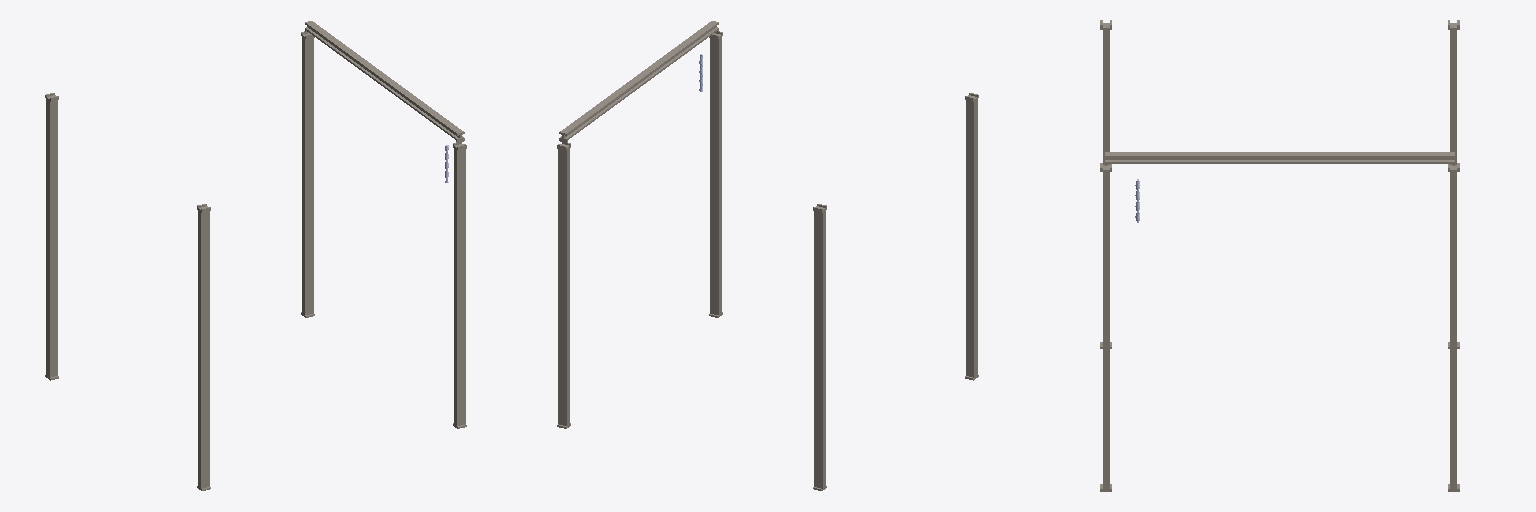
The robot description file, URDF, robot "my_robot":
<?xml version="1.0" ?>
<!-- =================================================================================== -->
<!-- |    This document was autogenerated by xacro from solidworks2ros_try22.xacro     | -->
<!-- |    EDITING THIS FILE BY HAND IS NOT RECOMMENDED                                 | -->
<!-- =================================================================================== -->
<robot name="my_robot">
  <link name="dummy"> 
  </link>
  <joint name="dummy_joint" type="fixed">
    <parent link="dummy"/>
    <child link="base_link"/>
  </joint>
  <link name="base_link">
    <inertial>
      <origin rpy="0 0 0" xyz="-1.8415 1.8923 1.93881228831229"/>
      <mass value="1189.83063679221"/>
      <inertia ixx="1522.60954712238" ixy="-1.420061750672E-22" ixz="3.73286057732453E-15" iyy="1517.59982451556" iyz="1.56754172645829E-13" izz="2.2081856636322"/>
    </inertial>
    <visual>
      <origin rpy="0 0 0" xyz="0 0 0"/>
      <geometry>
        <mesh filename="package://solidworks2ros_try22/meshes/base_link.STL"/>
      </geometry>
      <material name="">
        <color rgba="0.650980392156863 0.619607843137255 0.588235294117647 1"/>
      </material>
    </visual>
    <collision>
      <origin rpy="0 0 0" xyz="0 0 0"/>
      <geometry>
        <mesh filename="package://solidworks2ros_try22/meshes/base_link.STL"/>
      </geometry>
    </collision>
  </link>
  <link name="fixed_link1">
    <inertial>
      <origin rpy="0 0 0" xyz="-1.905 1.8923 -0.0105833333333343"/>
      <mass value="463.570377970991"/>
      <inertia ixx="0.770538827320867" ixy="8.9619312864146E-22" ixz="1.18922393937621E-15" iyy="560.96680475803" iyz="2.43205703879587E-22" izz="561.342728013408"/>
    </inertial>
    <visual>
      <origin rpy="0 0 0" xyz="0 0 0"/>
      <geometry>
        <mesh filename="package://solidworks2ros_try22/meshes/fixed_link1.STL"/>
      </geometry>
      <material name="">
        <color rgba="0.650980392156863 0.619607843137255 0.588235294117647 1"/>
      </material>
    </visual>
    <collision>
      <origin rpy="0 0 0" xyz="0 0 0"/>
      <geometry>
        <mesh filename="package://solidworks2ros_try22/meshes/fixed_link1.STL"/>
      </geometry>
    </collision>
  </link>
  <joint name="fixed_joint1" type="fixed">
    <origin rpy="0 0 0" xyz="0.0635 0 3.9122"/>
    <parent link="base_link"/>
    <child link="fixed_link1"/>
    <axis xyz="0 0 0"/>
  </joint>
  <link name="link_1">
    <inertial>
      <origin rpy="0 0 0" xyz="-0.0508000000000002 1.8923 0.0758631299734733"/>
      <mass value="19.418448055007"/>
      <inertia ixx="237.587906133625" ixy="5.18188025274158E-22" ixz="1.63224364285503E-17" iyy="0.380996606082199" iyz="6.20919831193846E-14" izz="237.478681964248"/>
    </inertial>
    <visual>
      <origin rpy="0 0 0" xyz="0 0 0"/>
      <geometry>
        <mesh filename="package://solidworks2ros_try22/meshes/link_1.STL"/>
      </geometry>
      <material name="">
        <color rgba="0.650980392156863 0.619607843137255 0.588235294117647 1"/>
      </material>
    </visual>
    <collision>
      <origin rpy="0 0 0" xyz="0 0 0"/>
      <geometry>
        <mesh filename="package://solidworks2ros_try22/meshes/link_1.STL"/>
      </geometry>
    </collision>
  </link>
  <joint name="joint_1" type="prismatic">
    <origin rpy="0 0 0" xyz="0 0 0"/>
    <parent link="fixed_link1"/>
    <child link="link_1"/>
    <axis xyz="-1 0 0"/>
    <limit effort="100" lower="0" upper="3.5" velocity="0.2"/>
  </joint>
  <link name="link_2">
    <inertial>
      <origin rpy="0 0 0" xyz="0 0 0.0356340705130371"/>
      <mass value="19.9990194153574"/>
      <inertia ixx="6.11375565768231" ixy="-1.15919177324351E-22" ixz="-2.72765263759081E-15" iyy="12.7901278387754" iyz="-1.01498448941922E-22" izz="7.21589311049448"/>
    </inertial>
    <visual>
      <origin rpy="0 0 0" xyz="0 0 0"/>
      <geometry>
        <mesh filename="package://solidworks2ros_try22/meshes/link_2.STL"/>
      </geometry>
      <material name="">
        <color rgba="0.650980392156863 0.619607843137255 0.588235294117647 1"/>
      </material>
    </visual>
    <collision>
      <origin rpy="0 0 0" xyz="0 0 0"/>
      <geometry>
        <mesh filename="package://solidworks2ros_try22/meshes/link_2.STL"/>
      </geometry>
    </collision>
  </link>
  <joint name="joint_2" type="prismatic">
    <origin rpy="0 0 0" xyz="-0.0508 0.2286 -0.1143"/>
    <parent link="link_1"/>
    <child link="link_2"/>
    <axis xyz="0 1 0"/>
    <limit effort="100" lower="0" upper="3.5" velocity="0.2"/>
  </joint>
  <link name="link_3">
    <inertial>
      <origin rpy="0 0 0" xyz="-1.5265814390375E-08 -0.00223577376814383 0.00223567354805672"/>
      <mass value="9.05475783072939"/>
      <inertia ixx="0.112496283294502" ixy="-3.42930100367884E-06" ixz="-3.41309869074687E-06" iyy="0.0861436896222287" iyz="-0.00122547207769907" izz="0.0861439430786658"/>
    </inertial>
    <visual>
      <origin rpy="0 0 0" xyz="0 0 0"/>
      <geometry>
        <mesh filename="package://solidworks2ros_try22/meshes/link_3.STL"/>
      </geometry>
      <material name="">
        <color rgba="0.792156862745098 0.819607843137255 0.933333333333333 1"/>
      </material>
    </visual>
    <collision>
      <origin rpy="0 0 0" xyz="0 0 0"/>
      <geometry>
        <mesh filename="package://solidworks2ros_try22/meshes/link_3.STL"/>
      </geometry>
    </collision>
  </link>
  <joint name="joint_3" type="revolute">
    <origin rpy="0 0 0" xyz="0 0 -0.0762"/>
    <parent link="link_2"/>
    <child link="link_3"/>
    <axis xyz="1 0 0"/>
    <limit effort="100" lower="0" upper="100" velocity="0.2"/>
  </joint>
  <!-- Define the link -->
  <link name="link_4">
    <inertial>
      <origin rpy="0 0 0" xyz="-1.50990331349021E-14 -1.79856129989275E-14 -0.254000177902264"/>
      <mass value="0.570788909720224"/>
      <inertia ixx="0.0123412356660734" ixy="8.63968603247427E-09" ixz="5.94410662360122E-18" iyy="0.0123412022009673" iyz="2.06563437257844E-18" izz="0.000129968031935081"/>
    </inertial>
    <visual>
      <origin rpy="0 0 0" xyz="0 0 0"/>
      <geometry>
        <mesh filename="package://solidworks2ros_try22/meshes/link_4.STL"/>
      </geometry>
      <material name="">
        <color rgba="0.792156862745098 0.819607843137255 0.933333333333333 1"/>
      </material>
    </visual>
    <collision>
      <origin rpy="0 0 0" xyz="0 0 0"/>
      <geometry>
        <mesh filename="package://solidworks2ros_try22/meshes/link_4.STL"/>
      </geometry>
    </collision>
  </link>
  <!-- Define the joint -->
  <joint name="joint_4" type="prismatic">
    <origin rpy="0 0 0" xyz="0 0.1143 -0.0762"/>
    <parent link="link_2"/>
    <child link="link_4"/>
    <axis xyz="0 0 -1"/>
    <limit effort="100" lower="0" upper="20" velocity="0.2"/>
  </joint>
  <!-- Define the link -->
  <link name="link_5">
    <inertial>
      <origin rpy="0 0 0" xyz="-1.50990331349021E-14 -1.79856129989275E-14 -0.254000177902264"/>
      <mass value="0.570788909720224"/>
      <inertia ixx="0.0123412356660734" ixy="8.63968603247427E-09" ixz="5.94410662360122E-18" iyy="0.0123412022009673" iyz="2.06563437257844E-18" izz="0.000129968031935081"/>
    </inertial>
    <visual>
      <origin rpy="0 0 0" xyz="0 0 0"/>
      <geometry>
        <mesh filename="package://solidworks2ros_try22/meshes/link_4.STL"/>
      </geometry>
      <material name="">
        <color rgba="0.792156862745098 0.819607843137255 0.933333333333333 1"/>
      </material>
    </visual>
    <collision>
      <origin rpy="0 0 0" xyz="0 0 0"/>
      <geometry>
        <mesh filename="package://solidworks2ros_try22/meshes/link_4.STL"/>
      </geometry>
    </collision>
  </link>
  <!-- Define the joint -->
  <joint name="joint_5" type="prismatic">
    <origin rpy="0 0 0" xyz="0 0.1143 -0.0762"/>
    <parent link="link_2"/>
    <child link="link_5"/>
    <axis xyz="0 0 -1"/>
    <limit effort="100" lower="0" upper="20" velocity="0.2"/>
  </joint>
  <!-- Define the link -->
  <link name="link_6">
    <inertial>
      <origin rpy="0 0 0" xyz="-1.50990331349021E-14 -1.79856129989275E-14 -0.254000177902264"/>
      <mass value="0.570788909720224"/>
      <inertia ixx="0.0123412356660734" ixy="8.63968603247427E-09" ixz="5.94410662360122E-18" iyy="0.0123412022009673" iyz="2.06563437257844E-18" izz="0.000129968031935081"/>
    </inertial>
    <visual>
      <origin rpy="0 0 0" xyz="0 0 0"/>
      <geometry>
        <mesh filename="package://solidworks2ros_try22/meshes/link_4.STL"/>
      </geometry>
      <material name="">
        <color rgba="0.792156862745098 0.819607843137255 0.933333333333333 1"/>
      </material>
    </visual>
    <collision>
      <origin rpy="0 0 0" xyz="0 0 0"/>
      <geometry>
        <mesh filename="package://solidworks2ros_try22/meshes/link_4.STL"/>
      </geometry>
    </collision>
  </link>
  <!-- Define the joint -->
  <joint name="joint_6" type="prismatic">
    <origin rpy="0 0 0" xyz="0 0.1143 -0.0762"/>
    <parent link="link_2"/>
    <child link="link_6"/>
    <axis xyz="0 0 -1"/>
    <limit effort="100" lower="0" upper="20" velocity="0.2"/>
  </joint>
  <!-- Define the link -->
  <link name="link_7">
    <inertial>
      <origin rpy="0 0 0" xyz="-1.50990331349021E-14 -1.79856129989275E-14 -0.254000177902264"/>
      <mass value="0.570788909720224"/>
      <inertia ixx="0.0123412356660734" ixy="8.63968603247427E-09" ixz="5.94410662360122E-18" iyy="0.0123412022009673" iyz="2.06563437257844E-18" izz="0.000129968031935081"/>
    </inertial>
    <visual>
      <origin rpy="0 0 0" xyz="0 0 0"/>
      <geometry>
        <mesh filename="package://solidworks2ros_try22/meshes/link_4.STL"/>
      </geometry>
      <material name="">
        <color rgba="0.792156862745098 0.819607843137255 0.933333333333333 1"/>
      </material>
    </visual>
    <collision>
      <origin rpy="0 0 0" xyz="0 0 0"/>
      <geometry>
        <mesh filename="package://solidworks2ros_try22/meshes/link_4.STL"/>
      </geometry>
    </collision>
  </link>
  <!-- Define the joint -->
  <joint name="joint_7" type="prismatic">
    <origin rpy="0 0 0" xyz="0 0.1143 -0.0762"/>
    <parent link="link_2"/>
    <child link="link_7"/>
    <axis xyz="0 0 -1"/>
    <limit effort="100" lower="0" upper="20" velocity="0.2"/>
  </joint>
  <!-- Define the link -->
  <link name="link_8">
    <inertial>
      <origin rpy="0 0 0" xyz="-1.50990331349021E-14 -1.79856129989275E-14 -0.254000177902264"/>
      <mass value="0.570788909720224"/>
      <inertia ixx="0.0123412356660734" ixy="8.63968603247427E-09" ixz="5.94410662360122E-18" iyy="0.0123412022009673" iyz="2.06563437257844E-18" izz="0.000129968031935081"/>
    </inertial>
    <visual>
      <origin rpy="0 0 0" xyz="0 0 0"/>
      <geometry>
        <mesh filename="package://solidworks2ros_try22/meshes/link_4.STL"/>
      </geometry>
      <material name="">
        <color rgba="0.792156862745098 0.819607843137255 0.933333333333333 1"/>
      </material>
    </visual>
    <collision>
      <origin rpy="0 0 0" xyz="0 0 0"/>
      <geometry>
        <mesh filename="package://solidworks2ros_try22/meshes/link_4.STL"/>
      </geometry>
    </collision>
  </link>
  <!-- Define the joint -->
  <joint name="joint_8" type="prismatic">
    <origin rpy="0 0 0" xyz="0 0.1143 -0.0762"/>
    <parent link="link_2"/>
    <child link="link_8"/>
    <axis xyz="0 0 -1"/>
    <limit effort="100" lower="0" upper="20" velocity="0.2"/>
  </joint>
  <!-- Define the link -->
  <link name="link_9">
    <inertial>
      <origin rpy="0 0 0" xyz="-1.50990331349021E-14 -1.79856129989275E-14 -0.254000177902264"/>
      <mass value="0.570788909720224"/>
      <inertia ixx="0.0123412356660734" ixy="8.63968603247427E-09" ixz="5.94410662360122E-18" iyy="0.0123412022009673" iyz="2.06563437257844E-18" izz="0.000129968031935081"/>
    </inertial>
    <visual>
      <origin rpy="0 0 0" xyz="0 0 0"/>
      <geometry>
        <mesh filename="package://solidworks2ros_try22/meshes/link_4.STL"/>
      </geometry>
      <material name="">
        <color rgba="0.792156862745098 0.819607843137255 0.933333333333333 1"/>
      </material>
    </visual>
    <collision>
      <origin rpy="0 0 0" xyz="0 0 0"/>
      <geometry>
        <mesh filename="package://solidworks2ros_try22/meshes/link_4.STL"/>
      </geometry>
    </collision>
  </link>
  <!-- Define the joint -->
  <joint name="joint_9" type="prismatic">
    <origin rpy="0 0 0" xyz="0 0.1143 -0.0762"/>
    <parent link="link_2"/>
    <child link="link_9"/>
    <axis xyz="0 0 -1"/>
    <limit effort="100" lower="0" upper="20" velocity="0.2"/>
  </joint>
  <!-- Define the link -->
  <link name="link_10">
    <inertial>
      <origin rpy="0 0 0" xyz="-1.50990331349021E-14 -1.79856129989275E-14 -0.254000177902264"/>
      <mass value="0.570788909720224"/>
      <inertia ixx="0.0123412356660734" ixy="8.63968603247427E-09" ixz="5.94410662360122E-18" iyy="0.0123412022009673" iyz="2.06563437257844E-18" izz="0.000129968031935081"/>
    </inertial>
    <visual>
      <origin rpy="0 0 0" xyz="0 0 0"/>
      <geometry>
        <mesh filename="package://solidworks2ros_try22/meshes/link_4.STL"/>
      </geometry>
      <material name="">
        <color rgba="0.792156862745098 0.819607843137255 0.933333333333333 1"/>
      </material>
    </visual>
    <collision>
      <origin rpy="0 0 0" xyz="0 0 0"/>
      <geometry>
        <mesh filename="package://solidworks2ros_try22/meshes/link_4.STL"/>
      </geometry>
    </collision>
  </link>
  <!-- Define the joint -->
  <joint name="joint_10" type="prismatic">
    <origin rpy="0 0 0" xyz="0 0.1143 -0.0762"/>
    <parent link="link_2"/>
    <child link="link_10"/>
    <axis xyz="0 0 -1"/>
    <limit effort="100" lower="0" upper="20" velocity="0.2"/>
  </joint>
  <!-- Define the link -->
  <link name="link_11">
    <inertial>
      <origin rpy="0 0 0" xyz="-1.50990331349021E-14 -1.79856129989275E-14 -0.254000177902264"/>
      <mass value="0.570788909720224"/>
      <inertia ixx="0.0123412356660734" ixy="8.63968603247427E-09" ixz="5.94410662360122E-18" iyy="0.0123412022009673" iyz="2.06563437257844E-18" izz="0.000129968031935081"/>
    </inertial>
    <visual>
      <origin rpy="0 0 0" xyz="0 0 0"/>
      <geometry>
        <mesh filename="package://solidworks2ros_try22/meshes/link_4.STL"/>
      </geometry>
      <material name="">
        <color rgba="0.792156862745098 0.819607843137255 0.933333333333333 1"/>
      </material>
    </visual>
    <collision>
      <origin rpy="0 0 0" xyz="0 0 0"/>
      <geometry>
        <mesh filename="package://solidworks2ros_try22/meshes/link_4.STL"/>
      </geometry>
    </collision>
  </link>
  <!-- Define the joint -->
  <joint name="joint_11" type="prismatic">
    <origin rpy="0 0 0" xyz="0 0.1143 -0.0762"/>
    <parent link="link_2"/>
    <child link="link_11"/>
    <axis xyz="0 0 -1"/>
    <limit effort="100" lower="0" upper="20" velocity="0.2"/>
  </joint>
  <transmission name="trans_1">
    <type>transmission_interface/SimpleTransmission</type>
    <joint name="joint_1">
      <hardwareInterface>hardware_interface/PositionJointInterface</hardwareInterface>
    </joint>
    <actuator name="motor_1">
      <hardwareInterface>hardware_interface/PositionJointInterface</hardwareInterface>
      <mechanicalReduction>1</mechanicalReduction>
    </actuator>
  </transmission>
  <transmission name="trans_2">
    <type>transmission_interface/SimpleTransmission</type>
    <joint name="joint_2">
      <hardwareInterface>hardware_interface/PositionJointInterface</hardwareInterface>
    </joint>
    <actuator name="motor_2">
      <hardwareInterface>hardware_interface/PositionJointInterface</hardwareInterface>
      <mechanicalReduction>1</mechanicalReduction>
    </actuator>
  </transmission>
  <transmission name="trans_3">
    <type>transmission_interface/SimpleTransmission</type>
    <joint name="joint_3">
      <hardwareInterface>hardware_interface/PositionJointInterface</hardwareInterface>
    </joint>
    <actuator name="motor_3">
      <hardwareInterface>hardware_interface/PositionJointInterface</hardwareInterface>
      <mechanicalReduction>1</mechanicalReduction>
    </actuator>
  </transmission>
  <transmission name="trans_4">
    <type>transmission_interface/SimpleTransmission</type>
    <joint name="joint_4">
      <hardwareInterface>hardware_interface/PositionJointInterface</hardwareInterface>
    </joint>
    <actuator name="motor_4">
      <hardwareInterface>hardware_interface/PositionJointInterface</hardwareInterface>
      <mechanicalReduction>1</mechanicalReduction>
    </actuator>
  </transmission>
  <transmission name="trans_5">
    <type>transmission_interface/SimpleTransmission</type>
    <joint name="joint_5">
      <hardwareInterface>hardware_interface/PositionJointInterface</hardwareInterface>
    </joint>
    <actuator name="motor_5">
      <hardwareInterface>hardware_interface/PositionJointInterface</hardwareInterface>
      <mechanicalReduction>1</mechanicalReduction>
    </actuator>
  </transmission>
  <transmission name="trans_6">
    <type>transmission_interface/SimpleTransmission</type>
    <joint name="joint_6">
      <hardwareInterface>hardware_interface/PositionJointInterface</hardwareInterface>
    </joint>
    <actuator name="motor_6">
      <hardwareInterface>hardware_interface/PositionJointInterface</hardwareInterface>
      <mechanicalReduction>1</mechanicalReduction>
    </actuator>
  </transmission>
  <transmission name="trans_7">
    <type>transmission_interface/SimpleTransmission</type>
    <joint name="joint_7">
      <hardwareInterface>hardware_interface/PositionJointInterface</hardwareInterface>
    </joint>
    <actuator name="motor_7">
      <hardwareInterface>hardware_interface/PositionJointInterface</hardwareInterface>
      <mechanicalReduction>1</mechanicalReduction>
    </actuator>
  </transmission>
  <transmission name="trans_8">
    <type>transmission_interface/SimpleTransmission</type>
    <joint name="joint_8">
      <hardwareInterface>hardware_interface/PositionJointInterface</hardwareInterface>
    </joint>
    <actuator name="motor_8">
      <hardwareInterface>hardware_interface/PositionJointInterface</hardwareInterface>
      <mechanicalReduction>1</mechanicalReduction>
    </actuator>
  </transmission>
  <transmission name="trans_9">
    <type>transmission_interface/SimpleTransmission</type>
    <joint name="joint_9">
      <hardwareInterface>hardware_interface/PositionJointInterface</hardwareInterface>
    </joint>
    <actuator name="motor_9">
      <hardwareInterface>hardware_interface/PositionJointInterface</hardwareInterface>
      <mechanicalReduction>1</mechanicalReduction>
    </actuator>
  </transmission>
  <transmission name="trans_10">
    <type>transmission_interface/SimpleTransmission</type>
    <joint name="joint_10">
      <hardwareInterface>hardware_interface/PositionJointInterface</hardwareInterface>
    </joint>
    <actuator name="motor_10">
      <hardwareInterface>hardware_interface/PositionJointInterface</hardwareInterface>
      <mechanicalReduction>1</mechanicalReduction>
    </actuator>
  </transmission>
  <transmission name="trans_11">
    <type>transmission_interface/SimpleTransmission</type>
    <joint name="joint_11">
      <hardwareInterface>hardware_interface/PositionJointInterface</hardwareInterface>
    </joint>
    <actuator name="motor_11">
      <hardwareInterface>hardware_interface/PositionJointInterface</hardwareInterface>
      <mechanicalReduction>1</mechanicalReduction>
    </actuator>
  </transmission>
  <!-- Gazebo plugin for controlling the rope -->
  <gazebo>
    <plugin filename="libgazebo_ros_control.so" name="ros_control">
    </plugin>
  </gazebo>
</robot>

--- What the picture shows (computed from the rendered views, not written in the file) ---
3 views of the same robot in one strip: view 1: azimuth 30°, elevation 25°; view 2: azimuth 150°, elevation 25°; view 3: azimuth 270°, elevation 25° (orthographic).
Robot: my_robot — 14 links, 13 joints (1 revolute, 10 prismatic, 2 fixed); root link dummy; default pose: every joint at zero.
Visible links, largest first — view 1: base_link, link_1; view 2: base_link, link_1; view 3: base_link, link_1.
Boxes of the visible links, x1,y1,x2,y2 form: base_link: (45,31,466,490); link_1: (305,21,464,142); base_link: (557,31,978,490); link_1: (559,21,718,142); base_link: (1100,20,1459,491); link_1: (1105,152,1454,165).
Size in the robot's own frame: 3.81 by 3.91 by 4.04 metres.
10 mesh visuals loaded from 6 distinct referenced files (3 binary STL); not drawn: 3 (reference not matched to a file when rendering).
